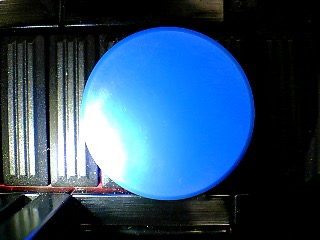BLANK: (80, 26, 256, 201)
